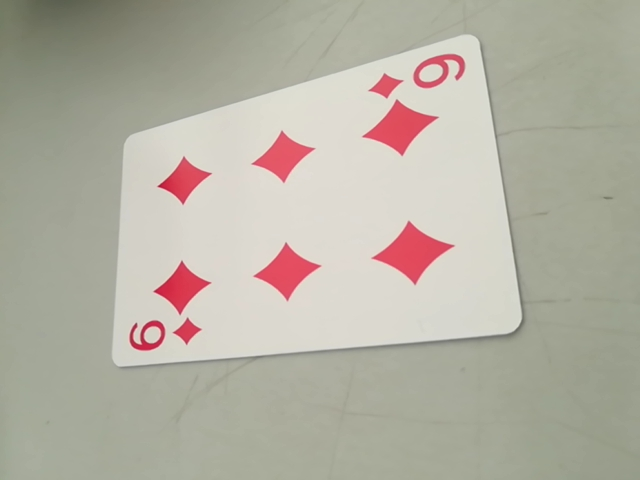fk 6: (367, 50, 469, 100), (121, 309, 204, 365)
